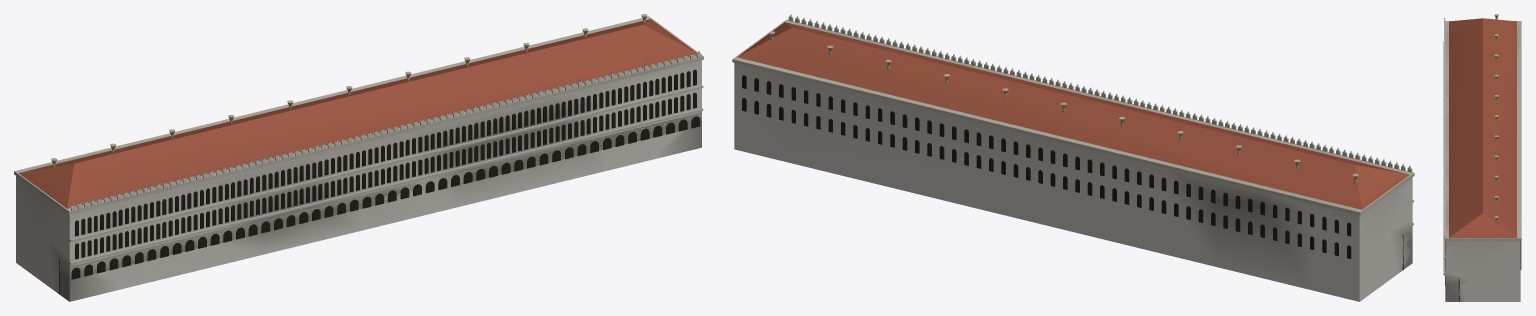
The model's file is procuratie-vecchie.glb.
The picture shows the model from 3 angles, left to right: view 1: azimuth 30°, elevation 25°; view 2: azimuth 150°, elevation 25°; view 3: azimuth 270°, elevation 25°; orthographic projection. The views are drawn at different scales.
Parts seen in each view (by area): view 1: p0_walls, p1_roof; view 2: p0_walls, p1_roof; view 3: p1_roof, p0_walls.
Boxes of the visible parts, left/top/right/bottom form: p0_walls: left=14, top=16, right=703, bottom=301; p1_roof: left=18, top=14, right=701, bottom=210; p0_walls: left=732, top=19, right=1414, bottom=301; p1_roof: left=737, top=14, right=1412, bottom=209; p1_roof: left=1444, top=14, right=1516, bottom=237; p0_walls: left=1443, top=21, right=1521, bottom=301.
Bounding box in the file's own units: 151 × 25.2 × 22.9.
